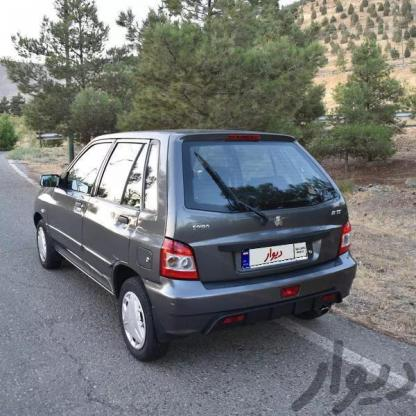Car: (6, 121, 368, 348)
